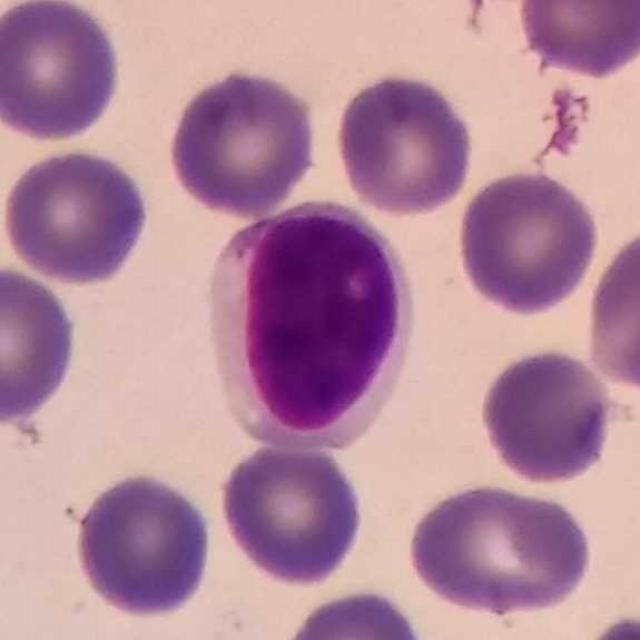Lymphocyte: (197, 192, 412, 452)
RBC: (404, 477, 598, 619), (164, 65, 324, 218), (215, 437, 369, 590), (452, 165, 603, 318), (69, 468, 217, 622), (331, 67, 478, 219), (0, 144, 154, 287), (475, 344, 621, 487), (0, 0, 126, 146), (0, 261, 82, 428), (582, 220, 640, 397), (512, 0, 639, 80), (275, 583, 431, 640)
